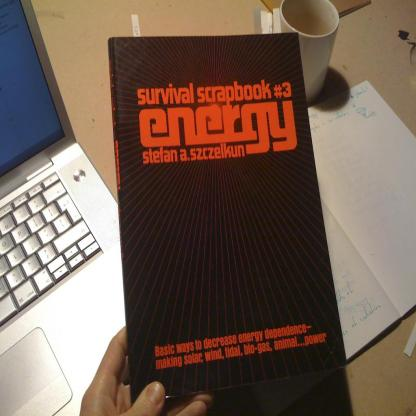board: (0, 0, 118, 416)
